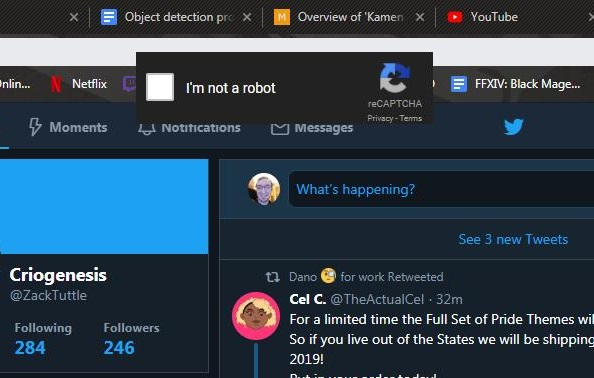captcha: (146, 72, 277, 102)
